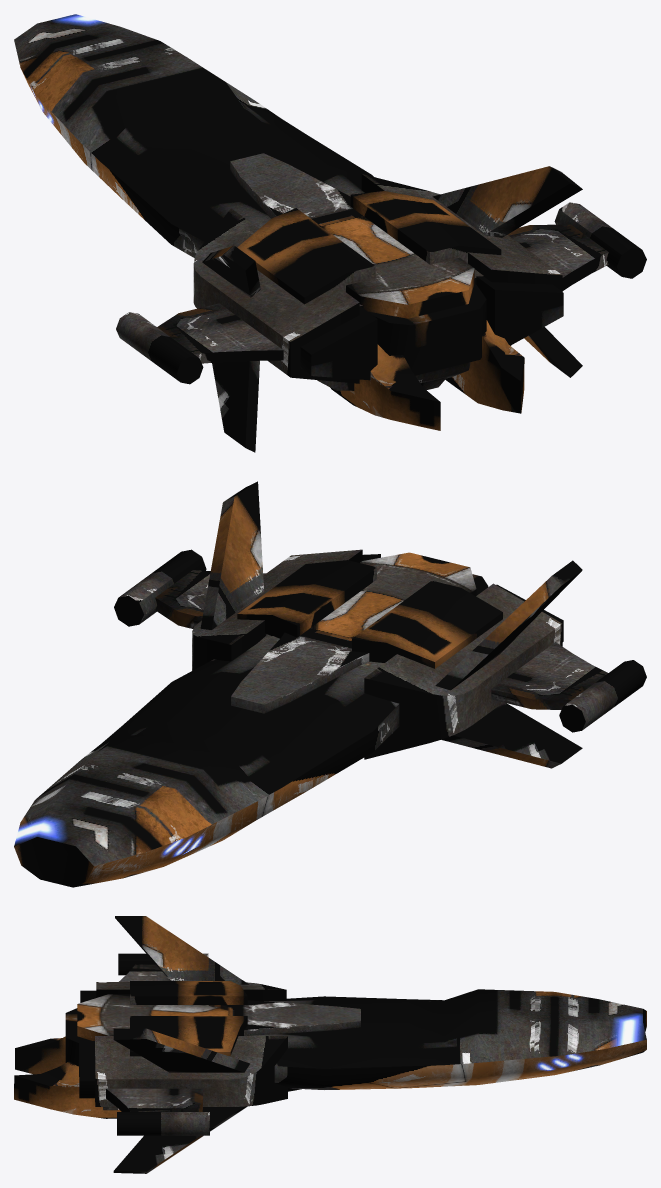
The model's file is ship07.fbx.
The picture shows the model from 3 angles, top to bottom: view 1: azimuth 30°, elevation 25°; view 2: azimuth 150°, elevation 25°; view 3: azimuth 270°, elevation 25°; orthographic projection. The views are drawn at different scales.
Parts seen in each view (by area): view 1: PipelineFBX0; view 2: PipelineFBX0; view 3: PipelineFBX0.
Part boxes in pixels (box(x1,y1,x2,y2)): PipelineFBX0: box(14, 14, 646, 452); PipelineFBX0: box(14, 481, 646, 887); PipelineFBX0: box(14, 916, 646, 1173).
Size of the model in its own units: 224 by 89.56 by 354.
1 material, 1 textured.
